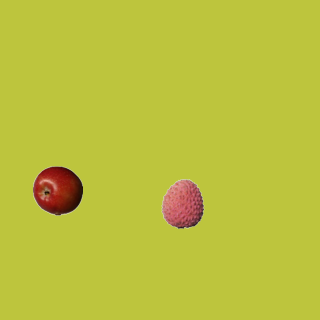Apple Braeburn: (32, 165, 82, 215)
Lychee: (157, 178, 207, 228)
